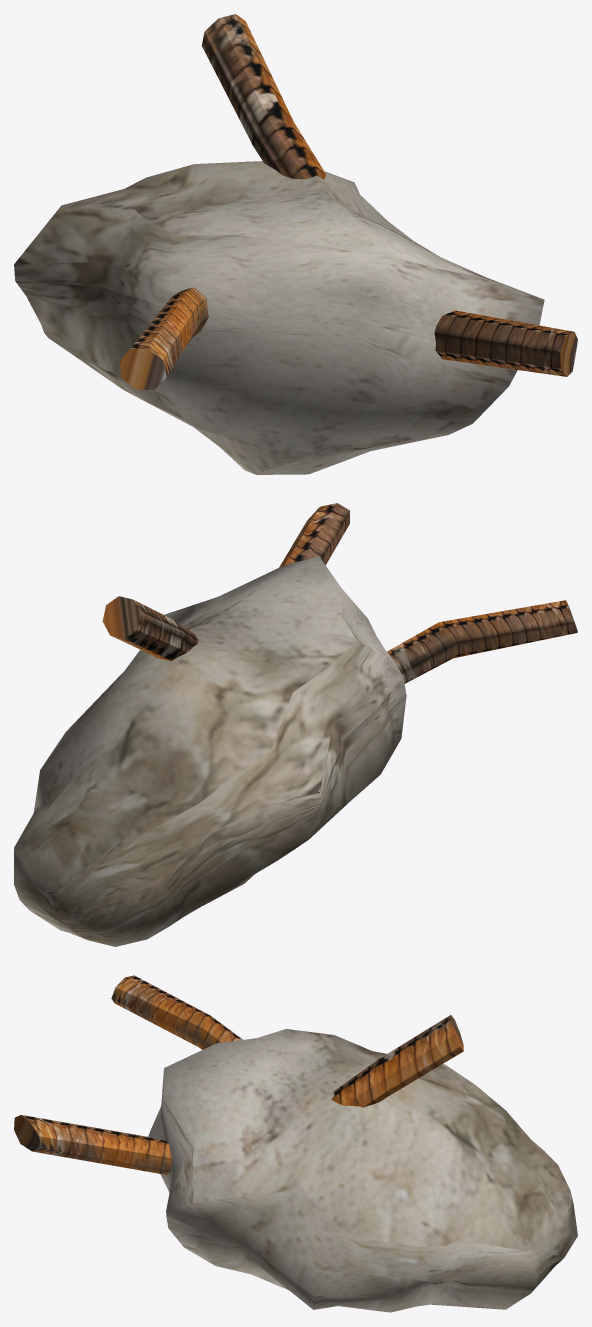
3 renders of one model, top to bottom at view 1: azimuth 30°, elevation 25°; view 2: azimuth 150°, elevation 25°; view 3: azimuth 270°, elevation 25°, orthographic. The views are drawn at different scales.
Parts seen in each view (by area): view 1: Object_16; view 2: Object_16; view 3: Object_16.
Part boxes in pixels (box(x1,y1,x2,y2)): Object_16: box(14, 14, 577, 474); Object_16: box(14, 503, 577, 946); Object_16: box(14, 975, 577, 1312).
Size of the model in its own units: 0.5157 by 0.402 by 0.7405.
1 material, 1 textured.
